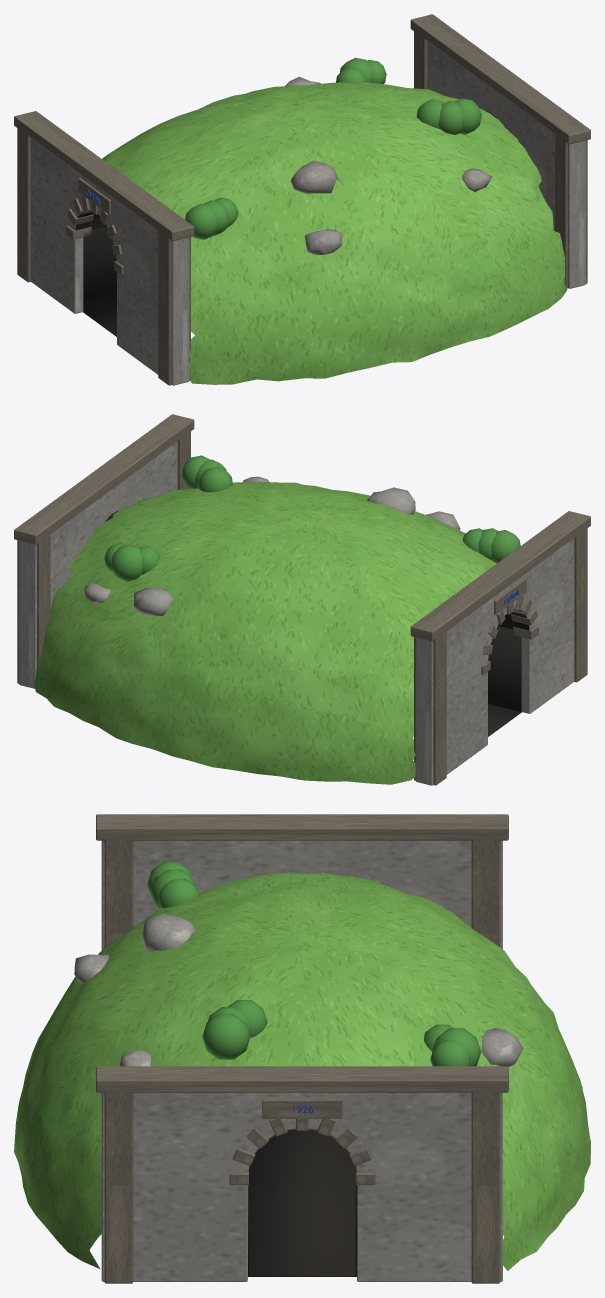
File: tunnelhill.glb
3 renders of one model, top to bottom at view 1: azimuth 30°, elevation 25°; view 2: azimuth 150°, elevation 25°; view 3: azimuth 270°, elevation 25°, orthographic. The views are drawn at different scales.
Visible parts, largest first — view 1: th_hill, th_portal, th_portal.001, th_parapet, th_parapet.001, th_wall.001, th_pier, th_pier.001, th_pier.002, th_boulder.004, th_bushball.003, th_boulder.001 (+7 smaller); view 2: th_hill, th_portal, th_portal.001, th_parapet, th_parapet.001, th_wall, th_pier.001, th_pier, th_pier.003, th_bushball.001, th_boulder.002, th_boulder.004 (+6 smaller); view 3: th_hill, th_portal.001, th_portal, th_floor, th_parapet.001, th_parapet, th_pier.003, th_pier.002, th_pier, th_pier.001, th_bushball.008, th_namestone.001 (+7 smaller).
Boxes of the visible parts, x1,y1,x2,y2 form: th_hill: (102,81,567,384); th_portal: (30,138,189,385); th_portal.001: (427,41,585,288); th_parapet: (14,111,194,241); th_parapet.001: (410,14,590,144); th_wall.001: (83,226,116,311); th_pier: (158,229,190,385); th_pier.001: (17,125,30,282); th_pier.002: (554,132,587,288); th_boulder.004: (290,160,337,193); th_bushball.003: (185,203,218,239); th_boulder.001: (305,229,342,255); th_hill: (34,481,496,784); th_portal: (415,538,574,785); th_portal.001: (19,441,177,688); th_parapet: (410,511,590,641); th_parapet.001: (14,414,194,544); th_wall: (488,626,521,711); th_pier.001: (414,628,446,785); th_pier: (574,528,587,682); th_pier.003: (17,534,50,683); th_bushball.001: (111,544,142,581); th_boulder.002: (133,587,172,615); th_boulder.004: (367,487,415,514); th_hill: (14,872,590,1270); th_portal.001: (101,1092,502,1281); th_portal: (101,840,502,950); th_floor: (248,1129,356,1276); th_parapet.001: (96,1066,508,1092); th_parapet: (96,814,508,840); th_pier.003: (471,1088,500,1283); th_pier.002: (104,1091,133,1283); th_pier: (104,836,133,947); th_pier.001: (471,836,500,946); th_bushball.008: (202,1013,250,1059); th_namestone.001: (262,1099,342,1118).
Size of the model in its own units: 11 by 4.29 by 10.06.
6 materials, 3 textured.
